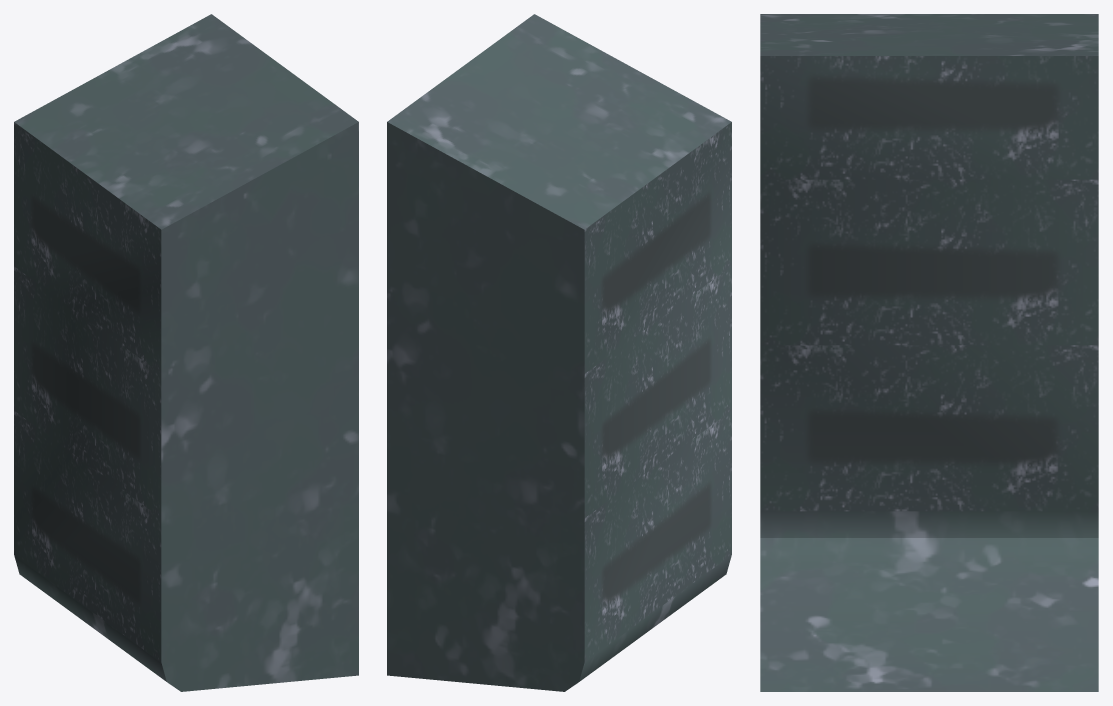
File: Tall_Cabinet.fbx
The picture shows the model from 3 angles, left to right: view 1: azimuth 30°, elevation 25°; view 2: azimuth 150°, elevation 25°; view 3: azimuth 270°, elevation 25°; orthographic projection. The views are drawn at different scales.
Visible parts, largest first — view 1: TallCabinet; view 2: TallCabinet; view 3: TallCabinet.
Part boxes in pixels (box(x1,y1,x2,y2)): TallCabinet: box(14, 14, 358, 691); TallCabinet: box(387, 14, 731, 691); TallCabinet: box(760, 14, 1098, 691).
Size of the model in its own units: 48.83 by 131 by 63.13.
